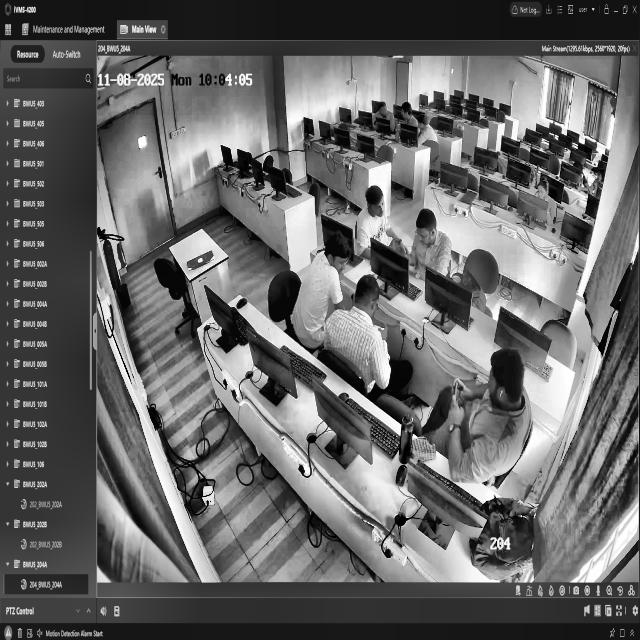Focus: (534, 179, 553, 209)
Not Focus: (483, 345, 528, 423), (322, 218, 352, 289), (349, 270, 385, 326), (360, 180, 393, 223), (413, 207, 438, 259), (377, 96, 392, 126), (416, 109, 431, 138), (401, 99, 412, 126)
